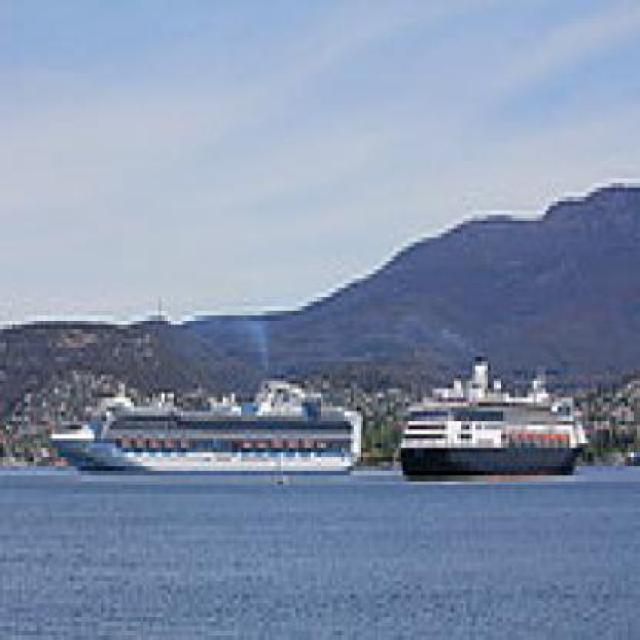cruise: (62, 344, 369, 495), (394, 344, 599, 509)
